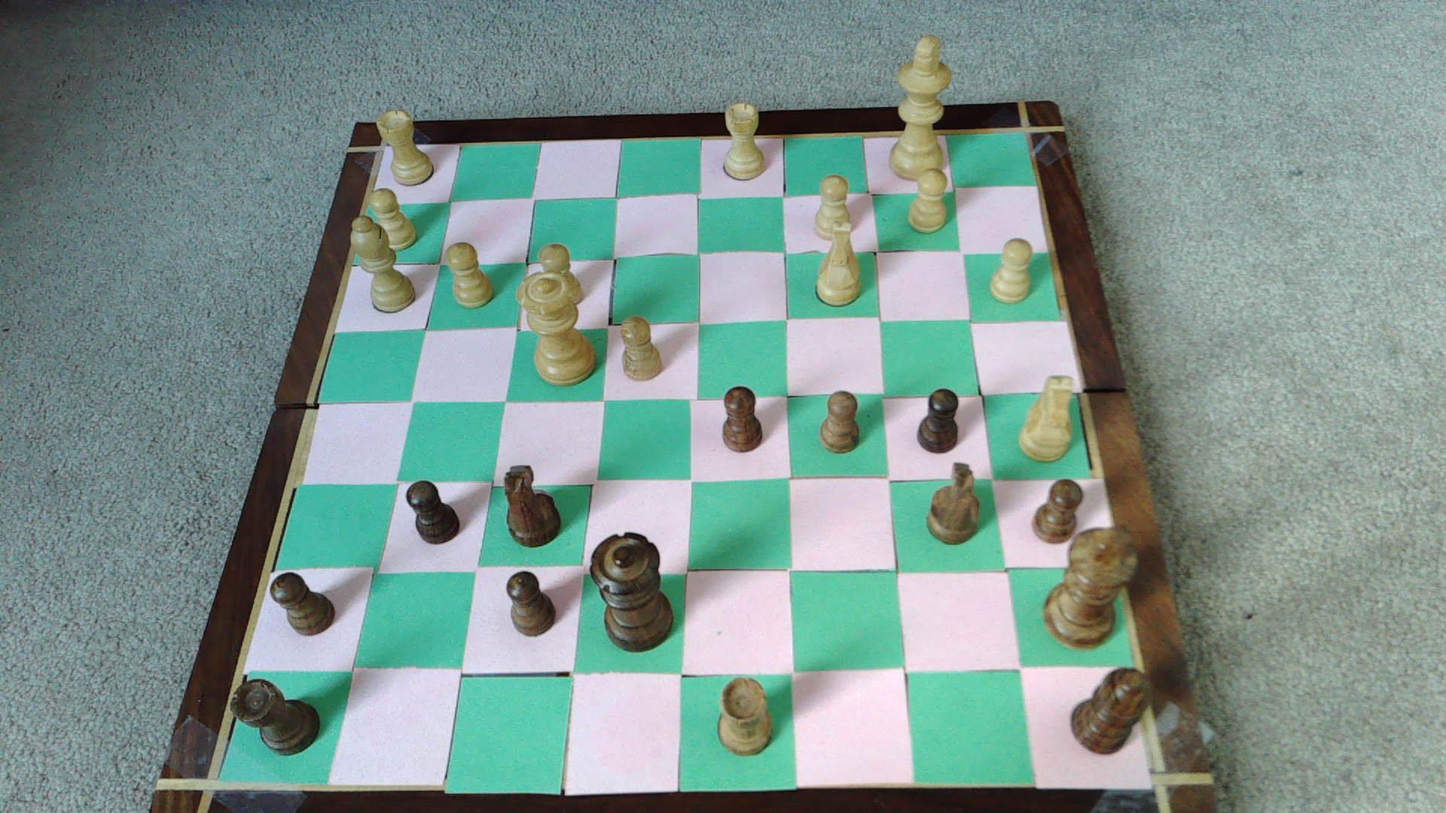dark_piece: (1030, 524, 1145, 645), (592, 532, 673, 651), (232, 680, 320, 755), (1070, 669, 1148, 753), (503, 463, 560, 546), (927, 462, 981, 544), (717, 677, 772, 755), (269, 573, 334, 635), (406, 481, 460, 544), (1034, 478, 1086, 540), (506, 571, 555, 635), (920, 388, 962, 452), (722, 386, 762, 451), (822, 391, 861, 452)
white_piece: (889, 34, 953, 181), (518, 274, 596, 385), (350, 214, 415, 312), (1019, 376, 1074, 462), (378, 110, 435, 186), (816, 230, 862, 306), (723, 101, 767, 180), (366, 189, 418, 251), (446, 242, 494, 307), (540, 243, 586, 306), (990, 238, 1033, 303), (621, 316, 663, 380), (908, 169, 949, 233), (814, 175, 853, 240)
